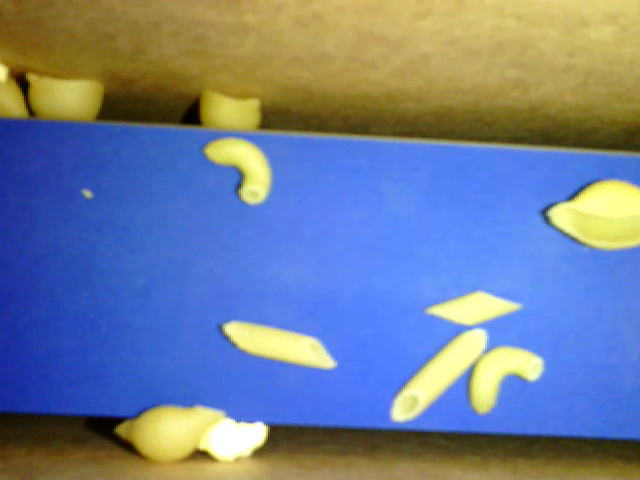elbow: (469, 344, 543, 414), (204, 137, 270, 208)
penne: (390, 329, 488, 423), (220, 318, 336, 368), (422, 289, 522, 326)
shell: (543, 176, 639, 251), (114, 405, 226, 466), (26, 71, 103, 120), (199, 88, 261, 130)
